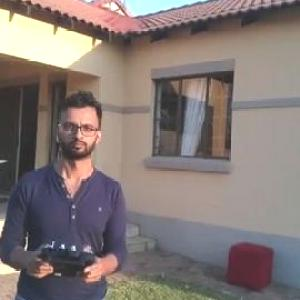follow: (0, 83, 130, 299)
